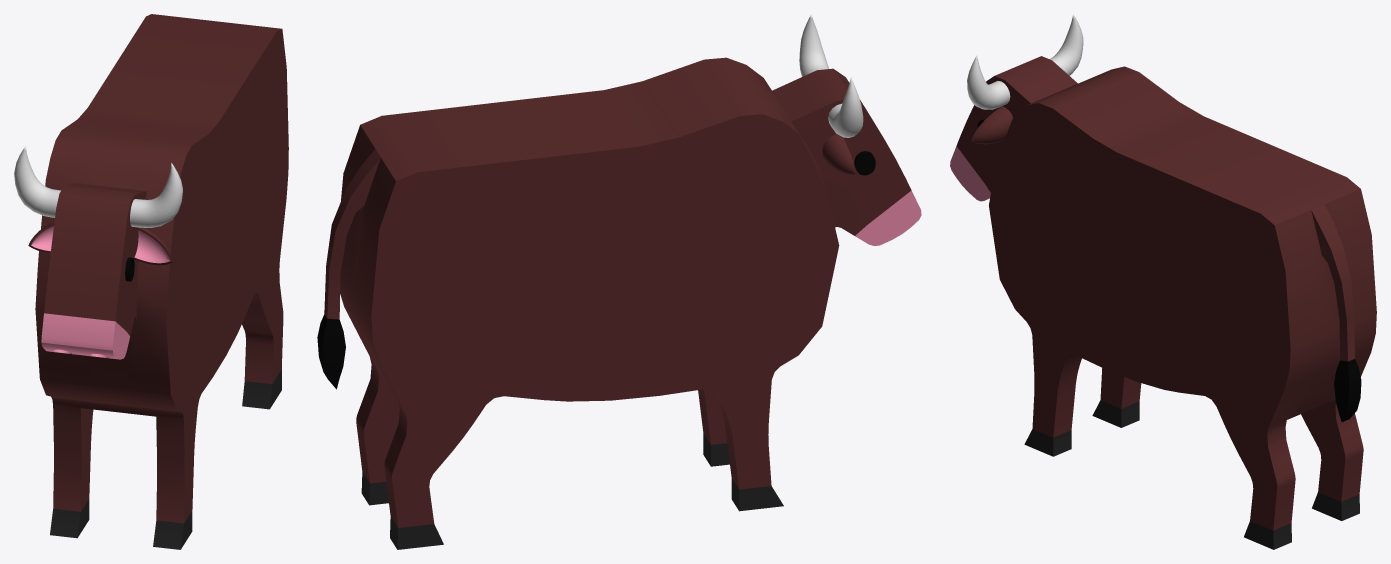
3 renders of one model, left to right at view 1: azimuth 30°, elevation 25°; view 2: azimuth 150°, elevation 25°; view 3: azimuth 270°, elevation 25°, orthographic. The views are drawn at different scales.
Parts seen in each view (by area): view 1: Plane.119, Circle.1892, Cube.6227; view 2: Plane.119, Circle.1892, Cube.6227; view 3: Plane.119, Circle.1892, Cube.6227.
Part boxes in pixels (x1,y1,x2,y2): Plane.119: (35,14,288,549); Circle.1892: (14,146,182,227); Cube.6227: (28,222,172,265); Plane.119: (317,57,921,549); Circle.1892: (799,14,863,137); Cube.6227: (822,134,855,174); Plane.119: (950,56,1376,549); Circle.1892: (967,14,1083,109); Cube.6227: (971,106,1012,144).
Size of the model in its own units: 2.18 by 2.11 by 2.18.
1 material, 1 textured.
